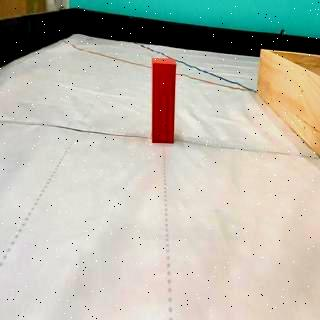redbox: (150, 58, 177, 144)
